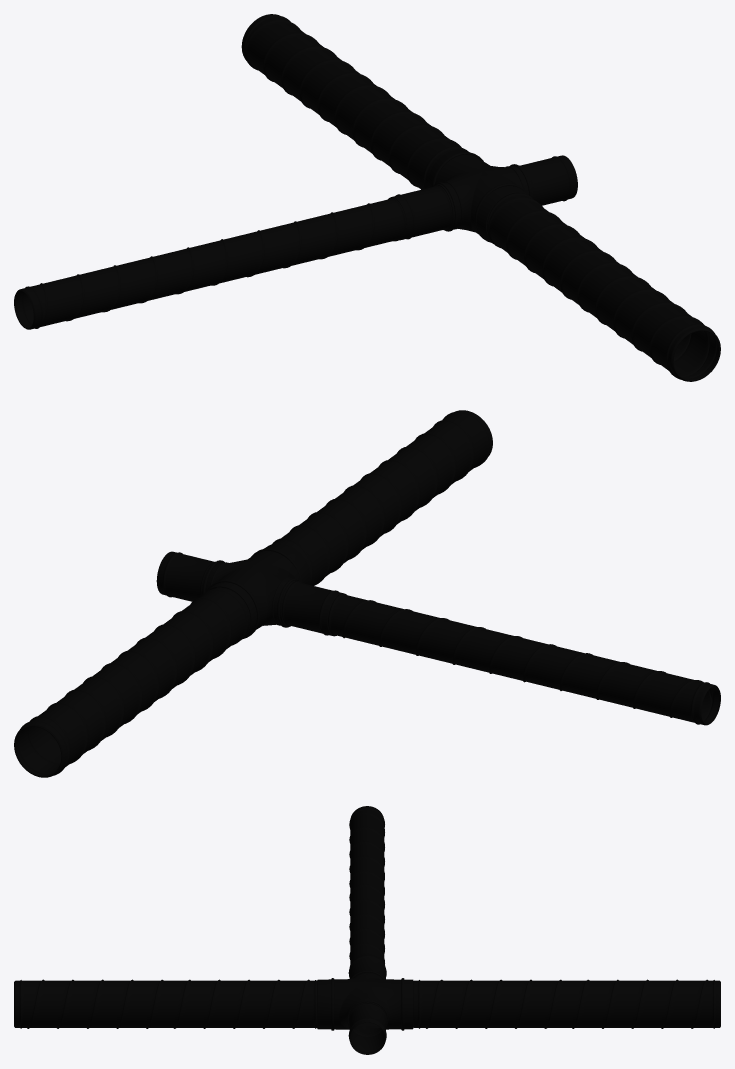
File: tubi_circolari_modulo.fbx
The picture shows the model from 3 angles, top to bottom: view 1: azimuth 30°, elevation 25°; view 2: azimuth 150°, elevation 25°; view 3: azimuth 270°, elevation 25°; orthographic projection. The views are drawn at different scales.
Visible parts, largest first — view 1: Tubi_circolari_modulo; view 2: Tubi_circolari_modulo; view 3: Tubi_circolari_modulo.
Boxes of the visible parts, x1,y1,x2,y2 form: Tubi_circolari_modulo: (14,14,720,381); Tubi_circolari_modulo: (14,410,720,777); Tubi_circolari_modulo: (14,806,720,1054).
Size of the model in its own units: 285 by 29.18 by 391.
